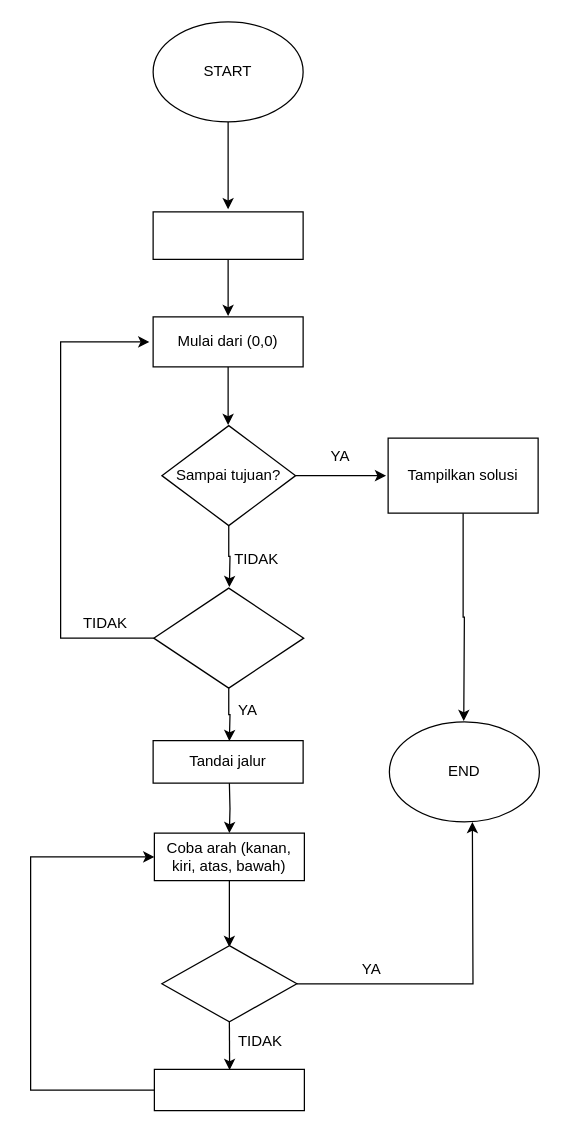
Image size: 561x1133. Some labels were removed from this diagram. The shapes that lost their labels are listed below. From the top down, each one's centre as x and y in pixels, then its label:
(x=227, y=235): Input maze
(x=228, y=637): Posisi valid?
(x=229, y=983): Berhasil?
(x=228, y=1089): Hapus jalur
